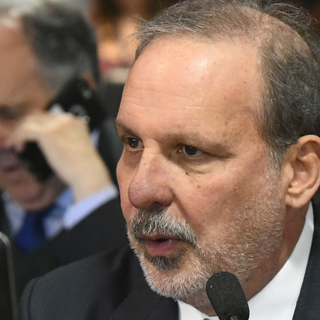eye: (168, 140, 216, 164), (120, 131, 146, 152)
